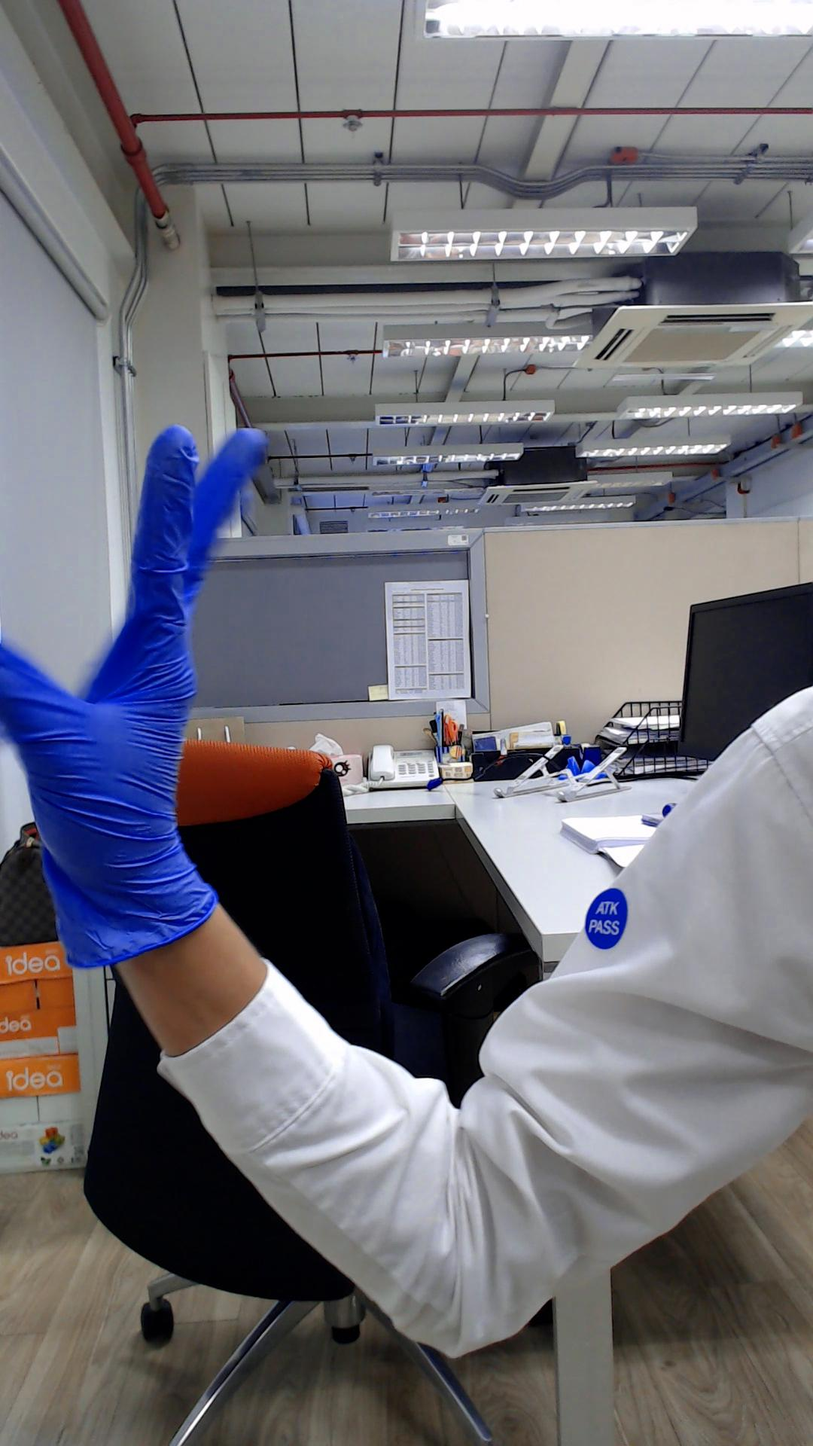gloves: (11, 410, 271, 854)
